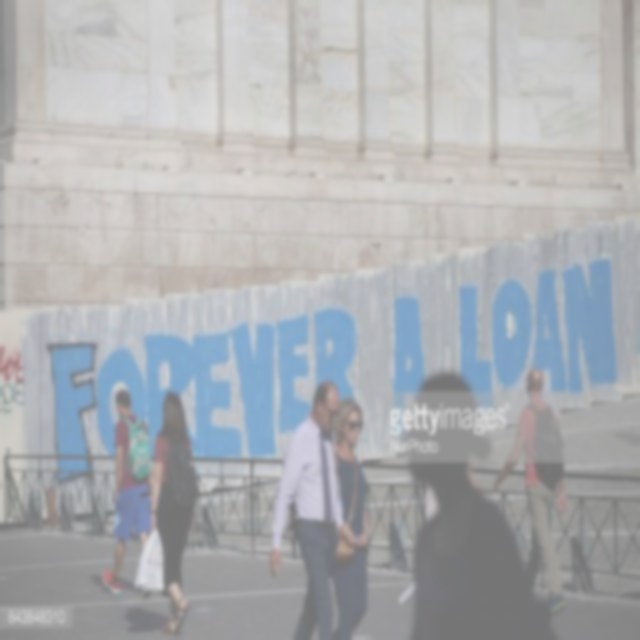pessoa: (403, 371, 558, 638), (270, 378, 358, 638), (490, 364, 570, 618), (148, 388, 192, 636), (330, 396, 374, 638), (101, 388, 152, 596), (417, 482, 438, 532)
